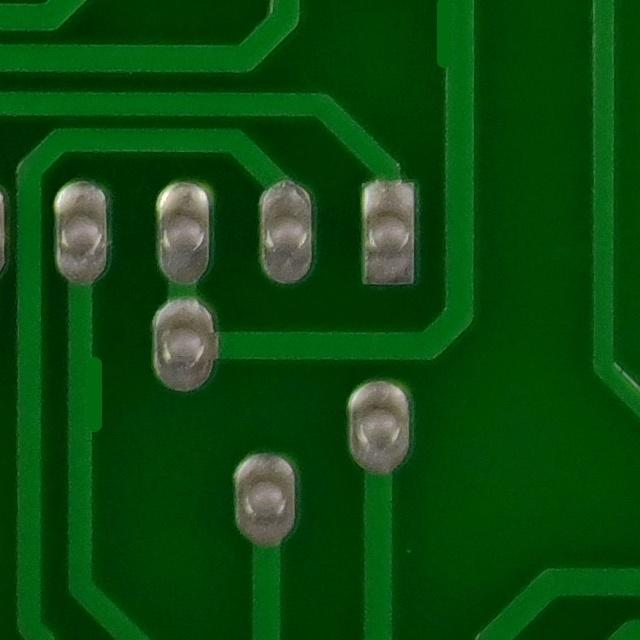spur: (59, 339, 119, 447), (411, 0, 483, 75)
